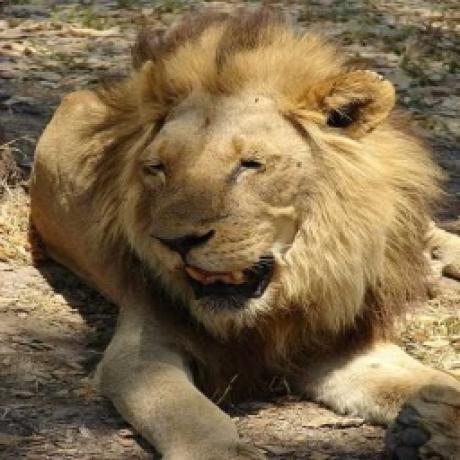Lion: (30, 7, 460, 460)
